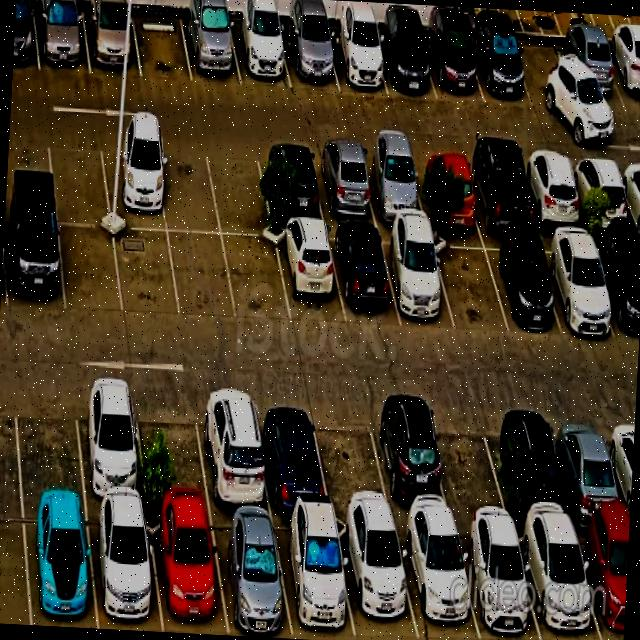empty: (431, 401, 511, 525), (312, 398, 392, 519), (135, 385, 211, 509), (14, 380, 85, 500), (431, 235, 509, 332), (205, 142, 273, 237), (168, 232, 237, 320), (156, 140, 221, 233), (114, 229, 180, 320), (47, 132, 111, 225), (223, 237, 291, 323), (59, 225, 123, 314), (512, 37, 580, 109), (133, 12, 192, 82)
occupied: (209, 512, 293, 638), (368, 400, 454, 521), (273, 515, 356, 640), (147, 508, 228, 634), (336, 518, 419, 640), (456, 523, 541, 640), (396, 523, 480, 640), (516, 525, 601, 640), (87, 504, 163, 631), (551, 406, 629, 527), (23, 502, 97, 629), (195, 389, 271, 512), (74, 380, 147, 505), (254, 393, 330, 513), (501, 403, 574, 525), (538, 234, 617, 335), (482, 236, 561, 332), (380, 230, 455, 330), (328, 227, 401, 324), (275, 225, 345, 324), (574, 526, 630, 640), (100, 136, 167, 230), (5, 216, 65, 312), (464, 153, 535, 232), (555, 38, 627, 112), (412, 151, 481, 228), (591, 235, 640, 343), (257, 145, 325, 222), (311, 147, 378, 223), (360, 148, 427, 223), (520, 154, 586, 229), (569, 155, 633, 231), (469, 31, 533, 106), (423, 30, 485, 102), (373, 31, 437, 99), (229, 20, 292, 88), (325, 28, 388, 94), (181, 16, 241, 85), (83, 10, 142, 77), (34, 8, 91, 74), (281, 26, 339, 89), (603, 42, 640, 112)
